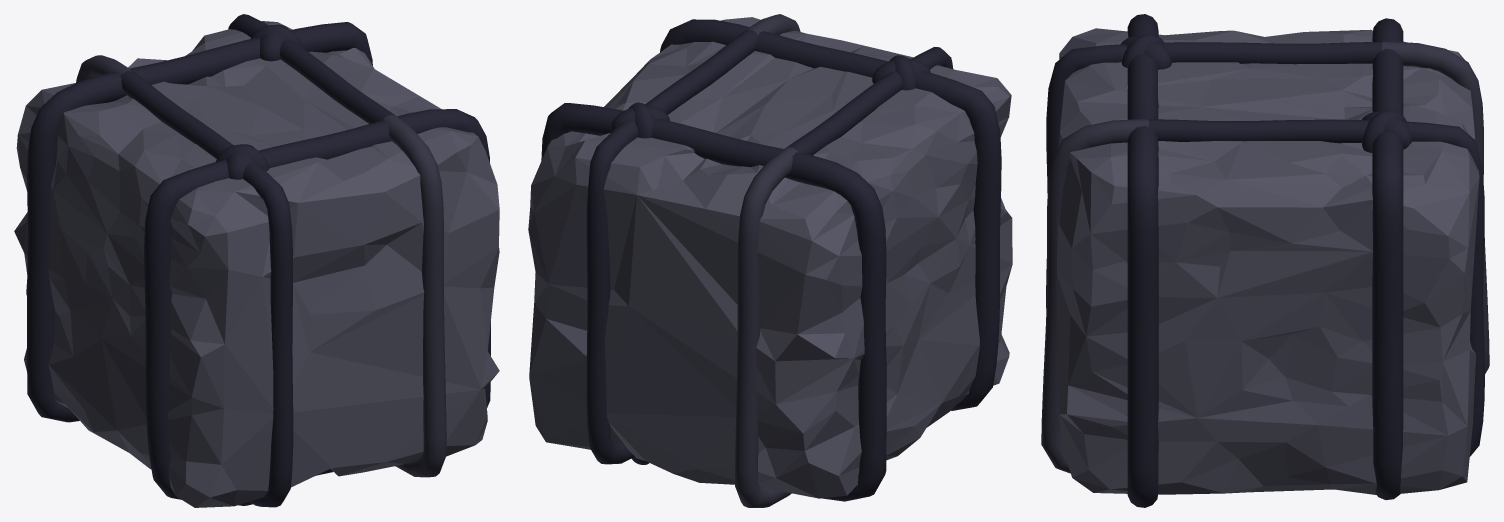
File: fardo_Ng.fbx
3 renders of one model, left to right at view 1: azimuth 30°, elevation 25°; view 2: azimuth 150°, elevation 25°; view 3: azimuth 270°, elevation 25°, orthographic. The views are drawn at different scales.
Parts seen in each view (by area): view 1: fardo_Ng; view 2: fardo_Ng; view 3: fardo_Ng.
Boxes of the visible parts, x1,y1,x2,y2 form: fardo_Ng: (14,14,499,507); fardo_Ng: (528,14,1012,507); fardo_Ng: (1041,14,1489,507).
Bounding box in the file's own units: 189 × 189 × 203.
